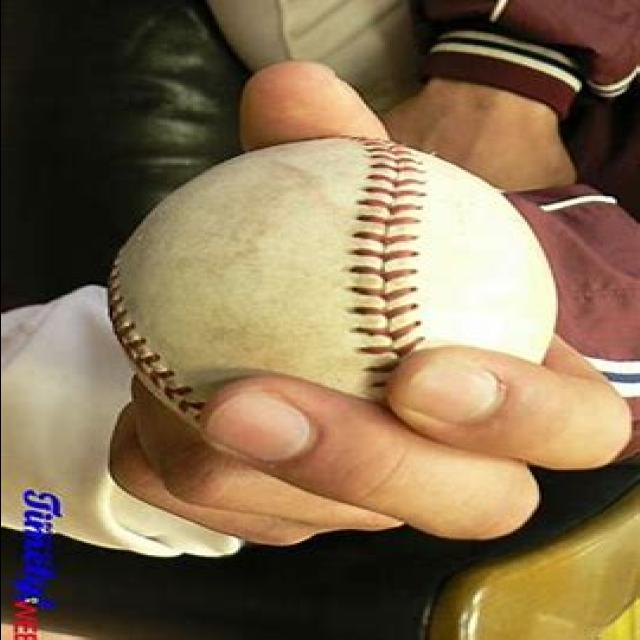ball: (103, 130, 566, 458)
